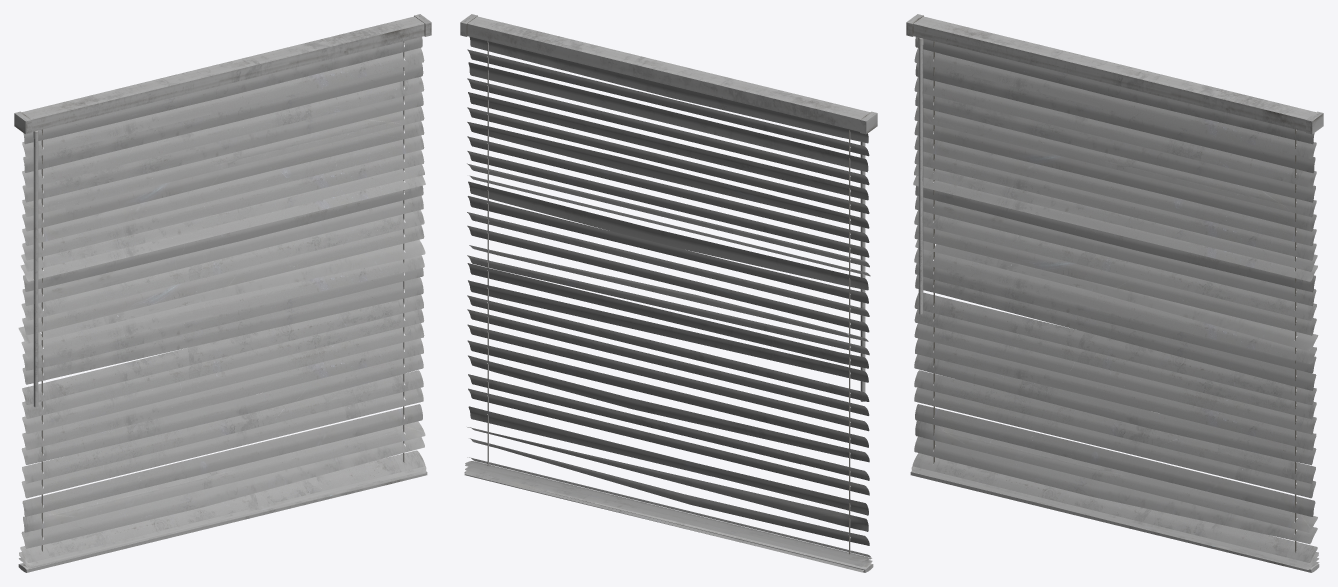
Rendered from SM_Blinds_01b.fbx.
The picture shows the model from 3 angles, left to right: view 1: azimuth 30°, elevation 25°; view 2: azimuth 150°, elevation 25°; view 3: azimuth 330°, elevation 25°; orthographic projection.
Visible parts, largest first — view 1: SM_Blinds_01b_LOD0; view 2: SM_Blinds_01b_LOD0; view 3: SM_Blinds_01b_LOD0.
Part boxes in pixels (x1=…): SM_Blinds_01b_LOD0: x1=14, y1=14, x2=431, y2=572; SM_Blinds_01b_LOD0: x1=460, y1=14, x2=877, y2=572; SM_Blinds_01b_LOD0: x1=906, y1=14, x2=1323, y2=572.
Bounding box in the file's own units: 150 × 7.67 × 160.
1 material, 1 textured.
